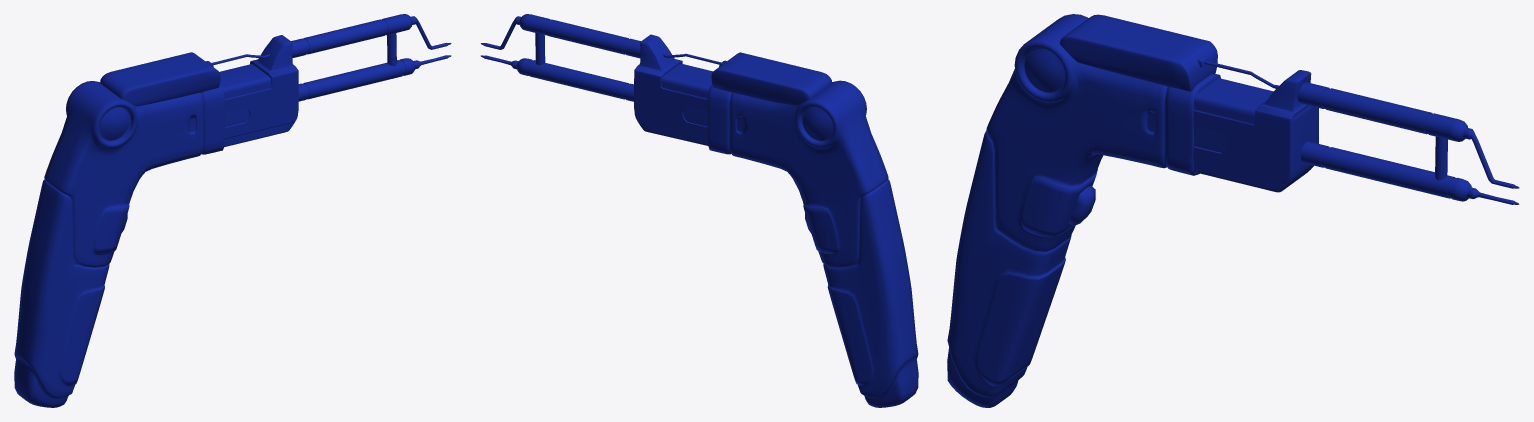
Rendered from Welder.fbx.
3 views of the same model, side by side, from view 1: azimuth 30°, elevation 25°; view 2: azimuth 150°, elevation 25°; view 3: azimuth 330°, elevation 25° (orthographic). The views are drawn at different scales.
Visible parts, largest first — view 1: Welder, Box015, Box007, Box008; view 2: Welder, Box007, Box015, Box008; view 3: Welder, Box015, Box007, Box008, ChamferBox001, Cylinder007.
Part boxes in pixels (x1,y1,x2,y2): Welder: (14, 14, 415, 407); Box015: (100, 52, 220, 106); Box007: (224, 35, 298, 138); Box008: (219, 64, 297, 147); Welder: (516, 14, 918, 407); Box007: (634, 34, 707, 138); Box015: (711, 52, 832, 105); Box008: (634, 63, 713, 145); Welder: (947, 14, 1471, 407); Box015: (1060, 14, 1217, 91); Box007: (1193, 70, 1318, 183); Box008: (1193, 78, 1318, 192); ChamferBox001: (1068, 186, 1095, 225); Cylinder007: (1463, 127, 1519, 188).
Size of the model in its own units: 19.75 by 2.37 by 13.46.
